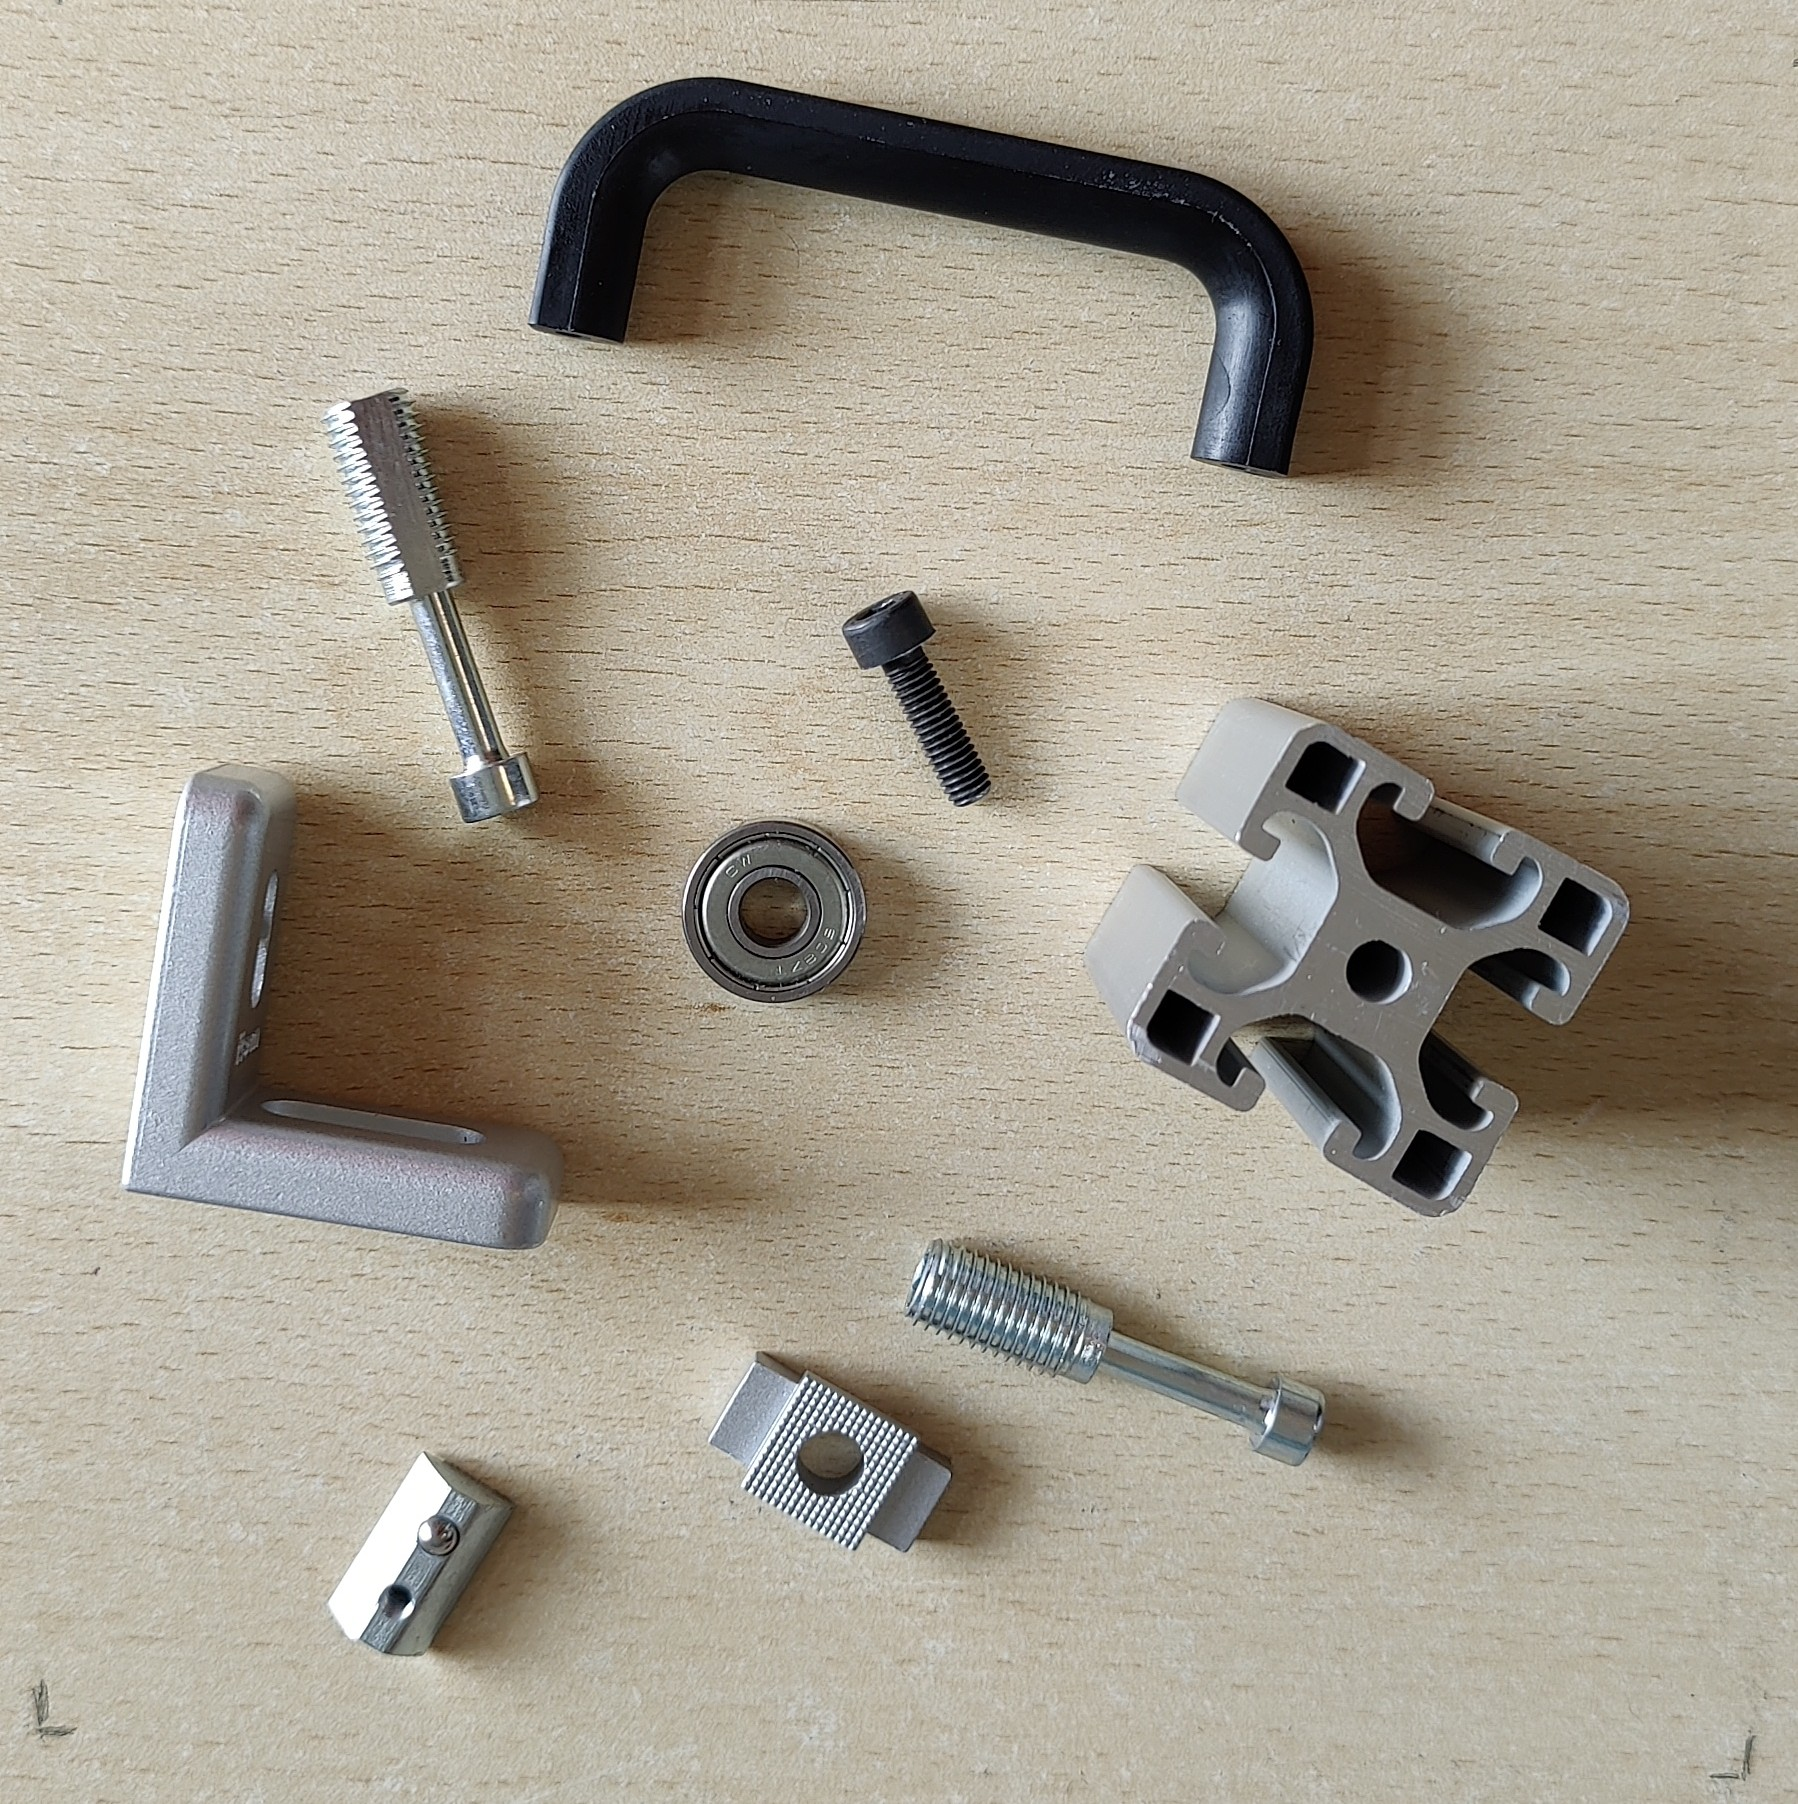Aluminium Extension: (1078, 691, 1633, 1220)
Ball Bearing: (678, 815, 869, 1006)
Multiwinkel: (117, 765, 566, 1253)
Pull Handle: (524, 74, 1317, 482)
Shoulder Socket Head Cap Screw: (902, 1234, 1332, 1472), (321, 382, 543, 825)
Socket Head Cap Screw: (840, 586, 994, 810)
T Nut Square: (705, 1345, 958, 1555)
T Spring Nut: (324, 1447, 519, 1659)
